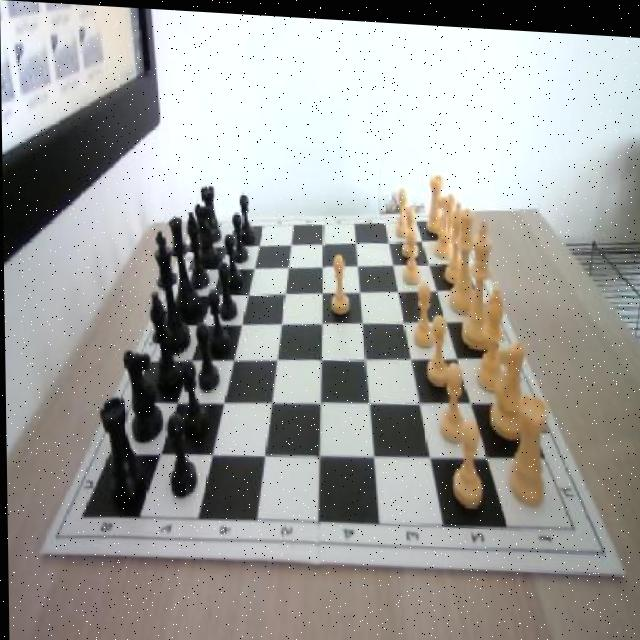bishop: (148, 290, 180, 392), (186, 207, 208, 289)
black-bishop: (153, 227, 190, 354)
black-king: (123, 347, 162, 443), (194, 201, 217, 263)
black-knight: (166, 411, 196, 496), (180, 359, 206, 437), (195, 320, 220, 390), (207, 285, 228, 353), (217, 259, 236, 321), (222, 230, 241, 288), (237, 191, 253, 242), (233, 209, 248, 263)
black-pawn: (167, 212, 201, 319)
black-queen: (99, 393, 146, 503), (200, 183, 219, 241)
black-rook: (472, 280, 510, 387), (443, 196, 466, 279)
white-bishop: (459, 214, 499, 348)
white-king: (488, 333, 528, 437), (432, 190, 458, 257)
white-knight: (449, 415, 483, 506), (436, 354, 468, 440), (424, 308, 452, 385), (412, 278, 436, 346), (329, 252, 349, 312), (402, 225, 422, 282), (393, 183, 412, 234), (400, 202, 418, 252)
white-pawn: (447, 202, 481, 310)
white-queen: (507, 386, 549, 501), (425, 169, 444, 232)
